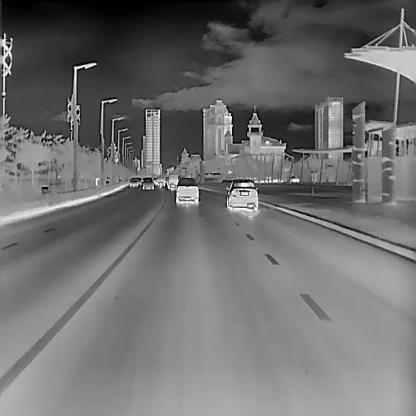car: (226, 180, 258, 211), (174, 176, 198, 204), (168, 174, 178, 192), (141, 175, 153, 189), (129, 176, 137, 187), (289, 176, 298, 182)
